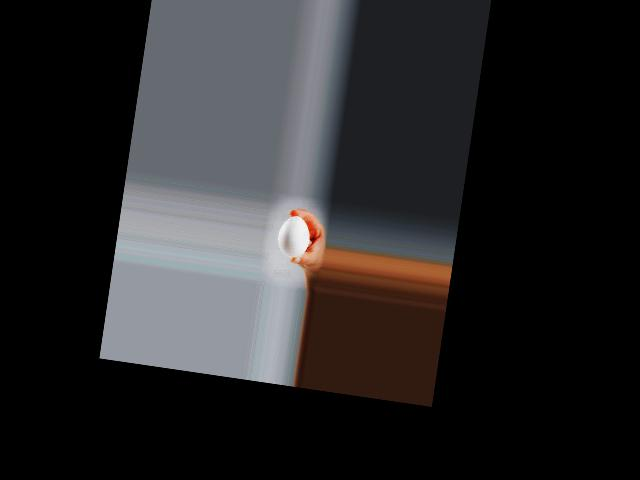egg: (276, 213, 312, 258)
